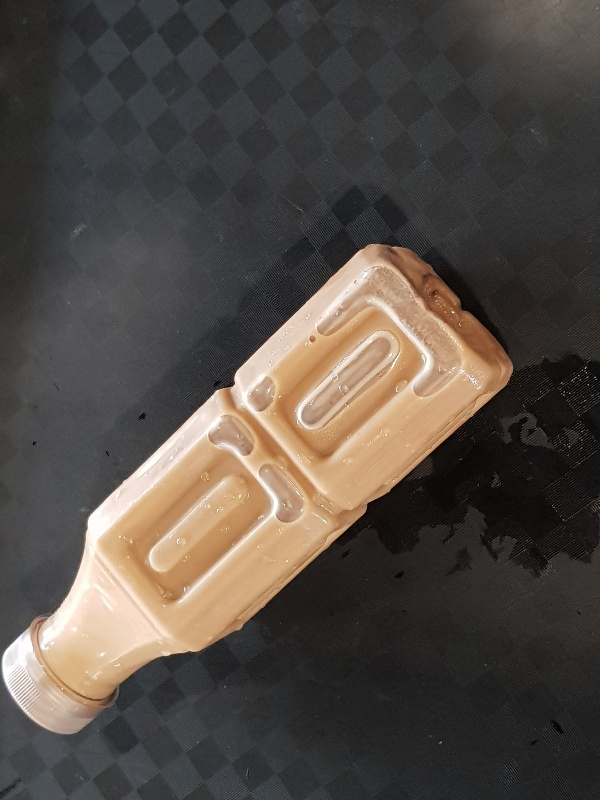Mocha: (3, 243, 515, 732)
